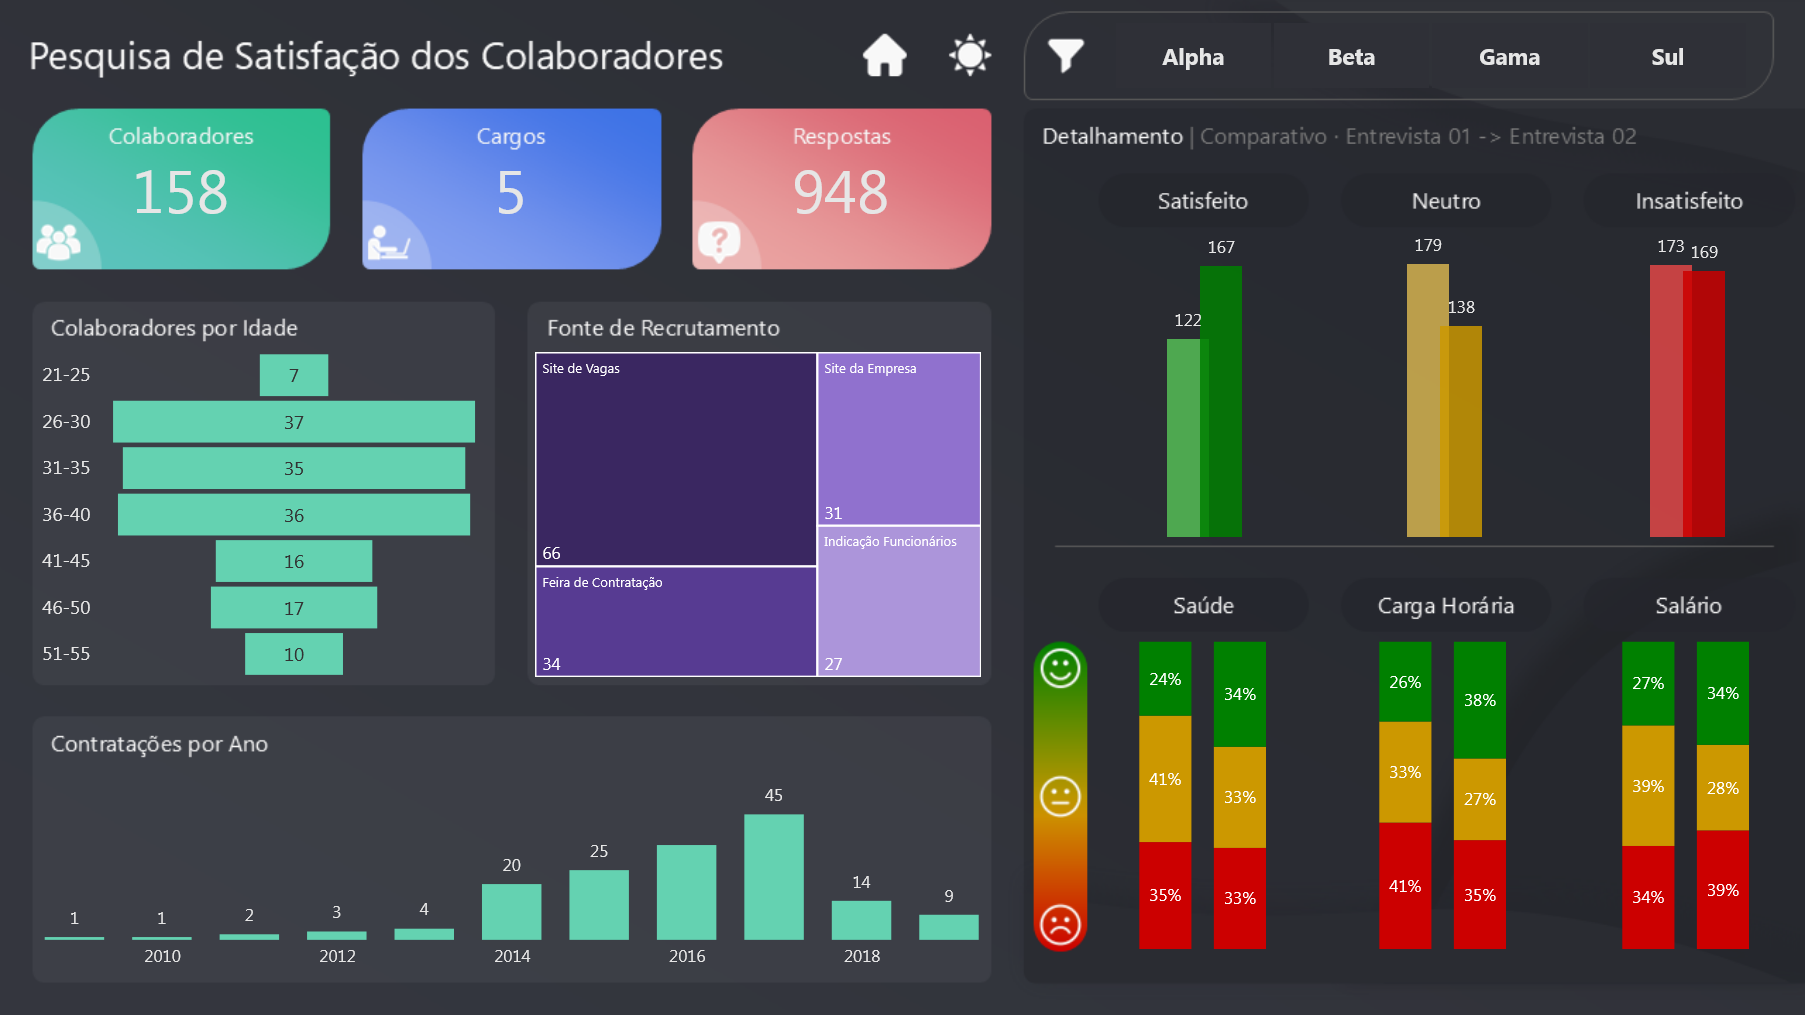

This screenshot's page, from the dashboard's own definition file:
{"tool":"powerbi","page":{"name":"Pesquisa de Satisfação dos Colaboradores Dark","canvas":[1280,720],"ordinal":1},"visuals":[{"type":"card","fields":{"Values":["Entrevistas.qtde_perguntas"]},"box":[490,76,212.5,116],"z":0},{"type":"card","fields":{"Values":["bd_integrantes.qtde_funcionários"]},"box":[22,76,212,116.2],"z":1000},{"type":"card","fields":{"Values":["bd_integrantes.qtde_cargos"]},"box":[256,76,212,116],"z":2000},{"type":"slicer","fields":{"Values":["bd_integrantes.Unidade"]},"box":[770.2,8.6,487.1,62],"z":3000},{"type":"treemap","fields":{"Group":["bd_integrantes.Fonte Recrutamento"],"Values":["bd_integrantes.qtde_funcionários"]},"box":[374,244,328,242],"z":4000},{"type":"clusteredColumnChart","fields":{"Category":["bd_integrantes.Data Contratação.Variation.Hierarquia de datas.Ano"],"Y":["bd_integrantes.qtde_funcionários"]},"box":[22,538,682,160],"z":5000},{"type":"funnel","fields":{"Category":["bd_integrantes.Faixa Etária"],"Y":["bd_integrantes.qtde_funcionários"]},"box":[22,244,328,242],"z":6000},{"type":"hundredPercentStackedColumnChart","fields":{"Category":["fEntrevistas.entrevista"],"Series":["fEntrevistas.resposta"],"Y":["Entrevistas.qtde_perguntas"]},"box":[782,441.5,146,238],"z":7000},{"type":"clusteredColumnChart","fields":{"Category":["fEntrevistas.resposta"],"Series":["fEntrevistas.entrevista"],"Y":["Entrevistas.qtde_perguntas"]},"box":[944.9,148,160,240],"z":8000},{"type":"clusteredColumnChart","fields":{"Category":["fEntrevistas.resposta"],"Series":["fEntrevistas.entrevista"],"Y":["Entrevistas.qtde_perguntas"]},"box":[774.5,148,160,240],"z":9000},{"type":"actionButton","box":[668,18,40,40],"z":10000},{"type":"actionButton","box":[606,20,40,40],"z":11000},{"type":"clusteredColumnChart","fields":{"Category":["fEntrevistas.resposta"],"Series":["fEntrevistas.entrevista"],"Y":["Entrevistas.qtde_perguntas"]},"box":[1117,148,160,240],"z":12000},{"type":"hundredPercentStackedColumnChart","fields":{"Category":["fEntrevistas.entrevista"],"Series":["fEntrevistas.resposta"],"Y":["Entrevistas.qtde_perguntas"]},"box":[952,441,146,238],"z":13000},{"type":"hundredPercentStackedColumnChart","fields":{"Category":["fEntrevistas.entrevista"],"Series":["fEntrevistas.resposta"],"Y":["Entrevistas.qtde_perguntas"]},"box":[1124,441.5,146,238],"z":14000}]}

Visuals, with their boxes in screenshot pixels (x1, y1, x2, y2), scaled from the page's 1280x720 canvas onto the 1805x1015 screenshot:
card - Entrevistas.qtde_perguntas: <box>691,107,991,271</box>
card - bd_integrantes.qtde_funcionários: <box>31,107,330,271</box>
card - bd_integrantes.qtde_cargos: <box>361,107,660,271</box>
slicer - bd_integrantes.Unidade: <box>1086,12,1773,100</box>
treemap - bd_integrantes.Fonte Recrutamento x bd_integrantes.qtde_funcionários: <box>527,344,990,685</box>
clusteredColumnChart - bd_integrantes.Data Contratação.Variation.Hierarquia de datas.Ano x bd_integrantes.qtde_funcionários: <box>31,758,993,984</box>
funnel - bd_integrantes.Faixa Etária x bd_integrantes.qtde_funcionários: <box>31,344,494,685</box>
hundredPercentStackedColumnChart - fEntrevistas.entrevista x fEntrevistas.resposta: <box>1103,622,1309,958</box>
clusteredColumnChart - fEntrevistas.resposta x fEntrevistas.entrevista: <box>1332,209,1558,547</box>
clusteredColumnChart - fEntrevistas.resposta x fEntrevistas.entrevista: <box>1092,209,1318,547</box>
actionButton: <box>942,25,998,82</box>
actionButton: <box>855,28,911,85</box>
clusteredColumnChart - fEntrevistas.resposta x fEntrevistas.entrevista: <box>1575,209,1801,547</box>
hundredPercentStackedColumnChart - fEntrevistas.entrevista x fEntrevistas.resposta: <box>1342,622,1548,957</box>
hundredPercentStackedColumnChart - fEntrevistas.entrevista x fEntrevistas.resposta: <box>1585,622,1791,958</box>
